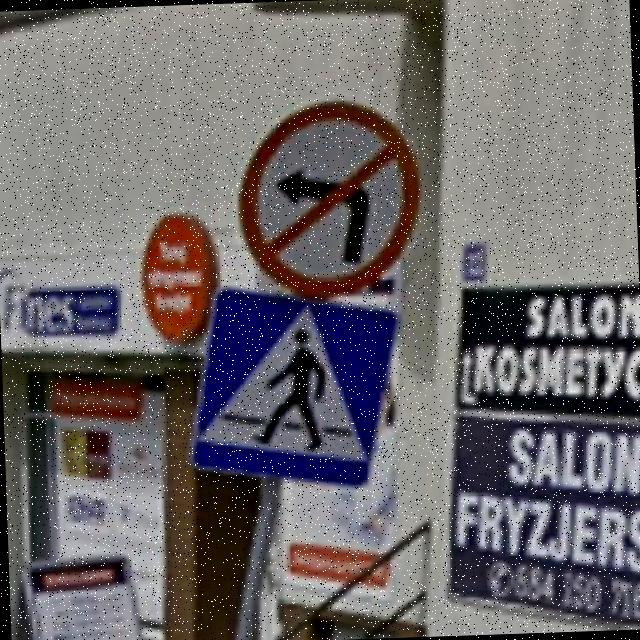Przejscie dla pieszych: (178, 278, 408, 493)
